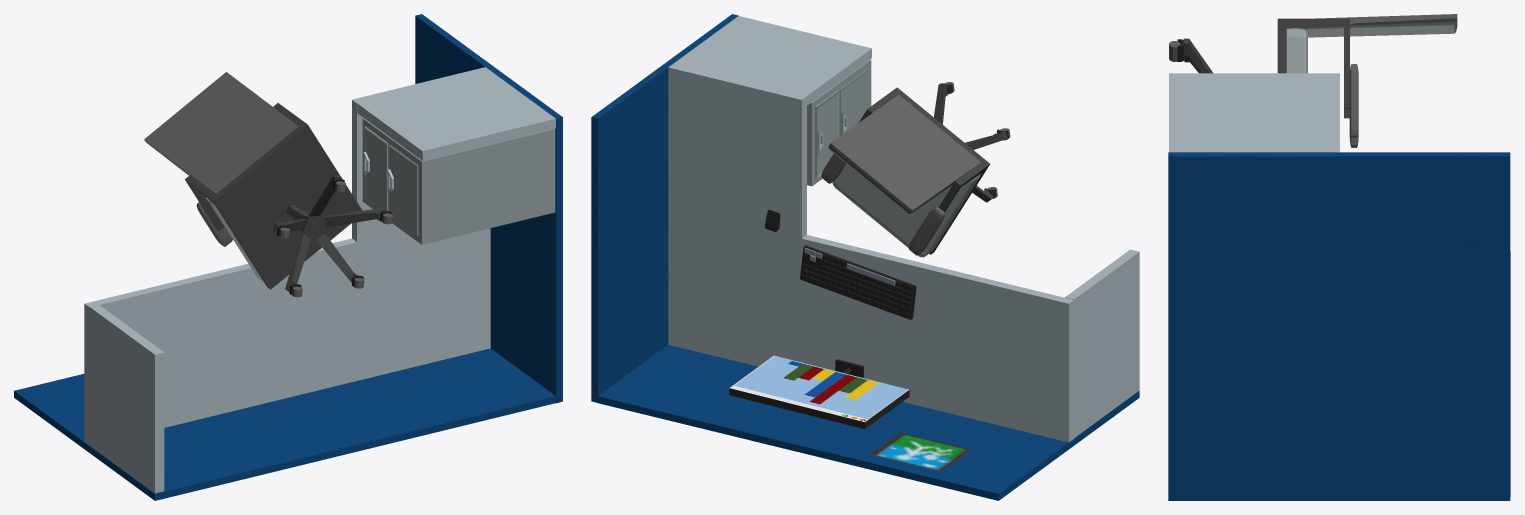
Rendered from WorkingRoom_MiddleTable.fbx.
3 views of the same model, side by side, from view 1: azimuth 30°, elevation 25°; view 2: azimuth 150°, elevation 25°; view 3: azimuth 270°, elevation 25° (orthographic). The views are drawn at different scales.
Visible parts, largest first — view 1: desk; view 2: desk; view 3: desk.
Boxes of the visible parts, <box> form: desk: <box>14,14,562,500</box>; desk: <box>591,14,1139,500</box>; desk: <box>1168,14,1510,500</box>.
Bounding box in the file's own units: 3 × 2.08 × 1.8.
